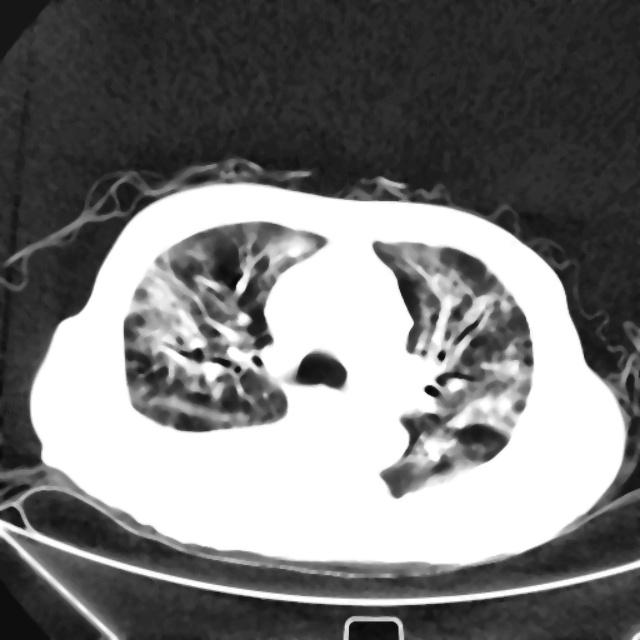covid: (20, 172, 627, 573)
